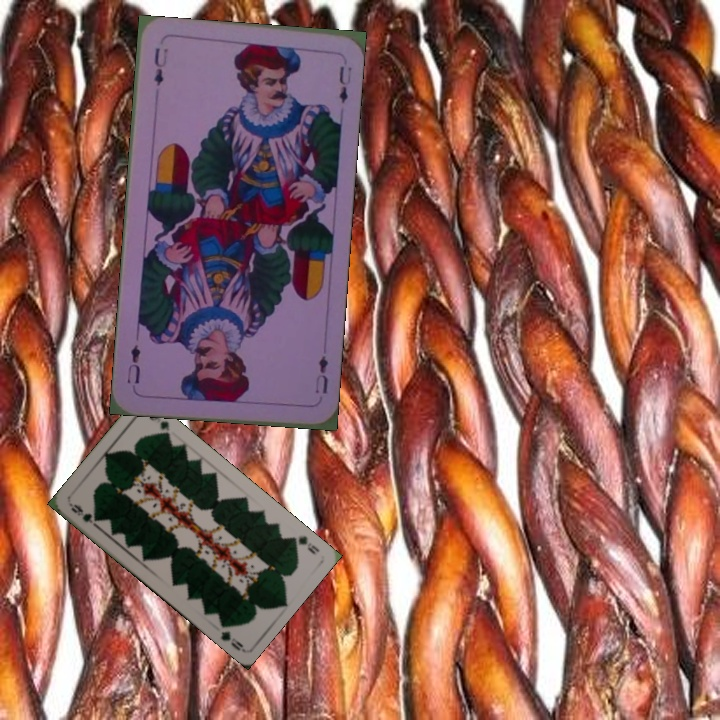EU: (311, 351, 331, 397), (150, 44, 170, 88)
G9: (66, 500, 101, 530), (285, 531, 322, 557)
